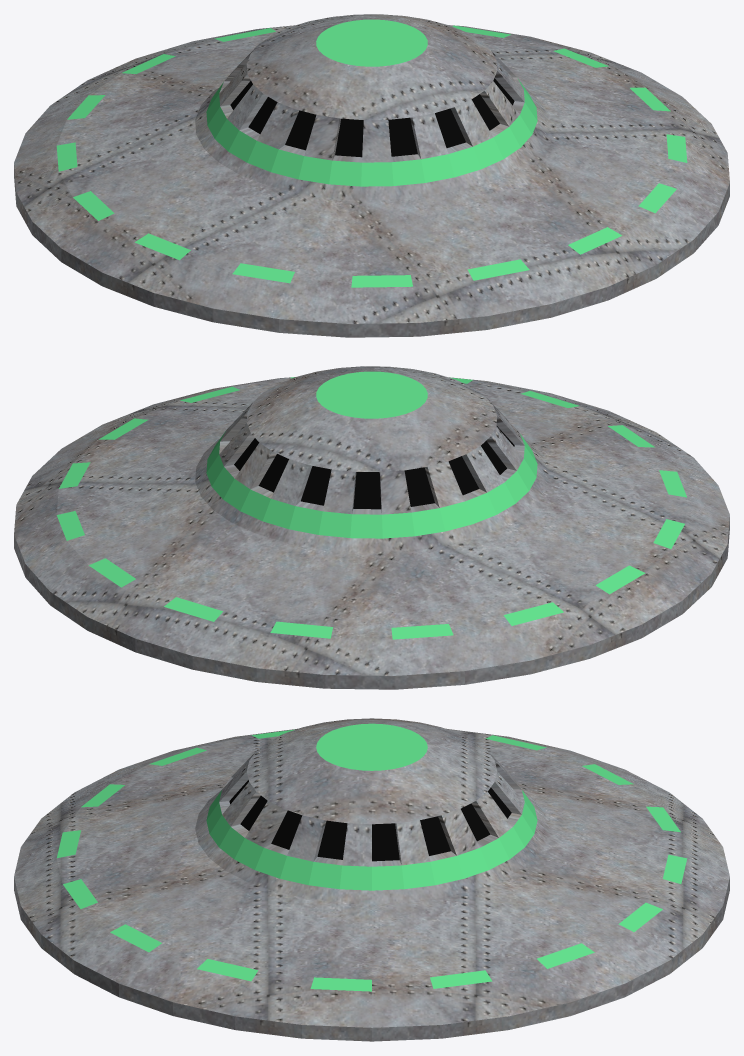
The model's file is SmallUFO.fbx.
3 renders of one model, top to bottom at view 1: azimuth 30°, elevation 25°; view 2: azimuth 150°, elevation 25°; view 3: azimuth 270°, elevation 25°, orthographic.
Visible parts, largest first — view 1: Cylinder; view 2: Cylinder; view 3: Cylinder.
Boxes of the visible parts, box(x1,y1,x2,y2) form: Cylinder: box(14, 14, 729, 337); Cylinder: box(14, 366, 729, 689); Cylinder: box(14, 718, 729, 1041).
Size of the model in its own units: 2571 by 864 by 2571.
Materials: 3 (1 with a texture image).
